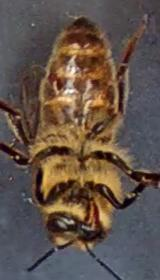varroa_mite: (42, 66, 68, 94)
